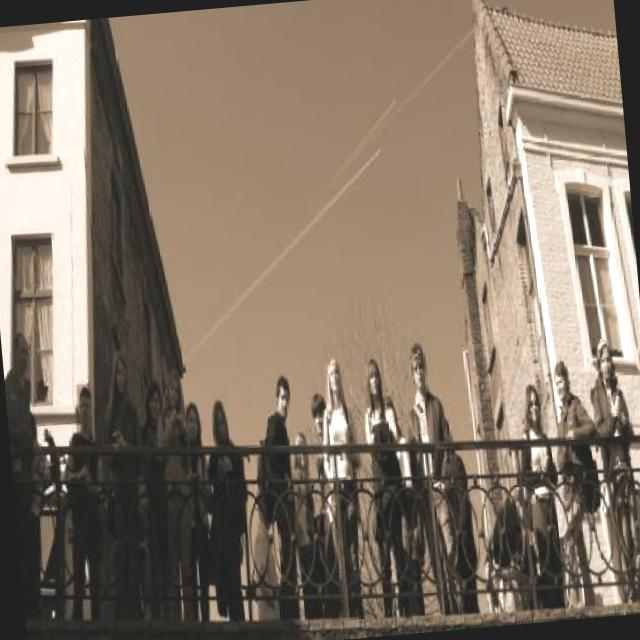Person: (391, 323, 473, 621), (0, 319, 68, 640), (146, 350, 217, 621), (547, 351, 616, 619), (94, 343, 159, 623), (314, 355, 380, 619), (130, 356, 190, 640), (358, 350, 419, 626), (581, 336, 640, 613), (51, 388, 117, 624), (254, 369, 312, 631), (170, 386, 228, 632), (194, 398, 256, 618), (508, 386, 564, 607), (288, 410, 330, 631), (480, 486, 540, 622), (312, 390, 346, 612), (244, 486, 284, 629)
